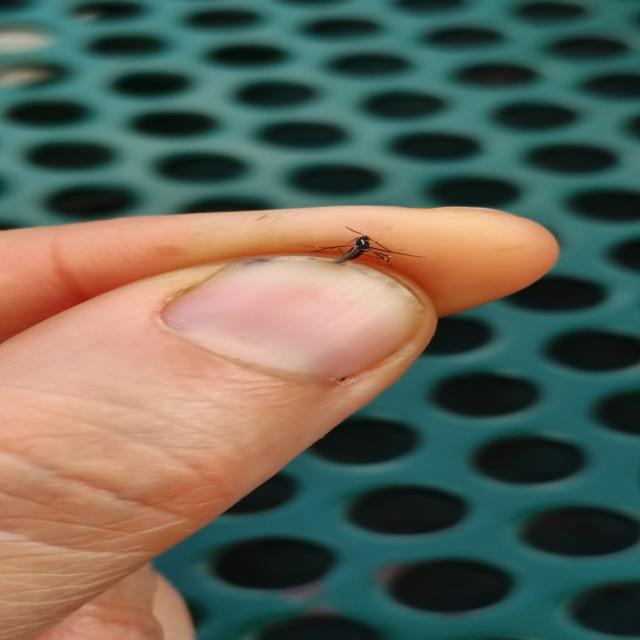albopictus: (293, 222, 424, 270)
